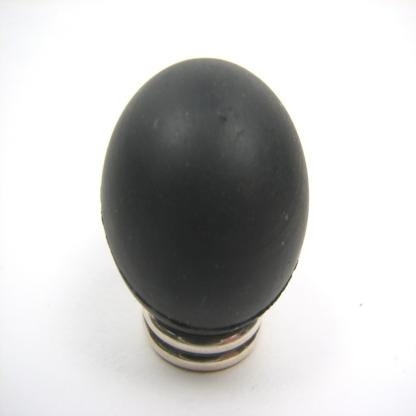Ball: (102, 56, 310, 334)
